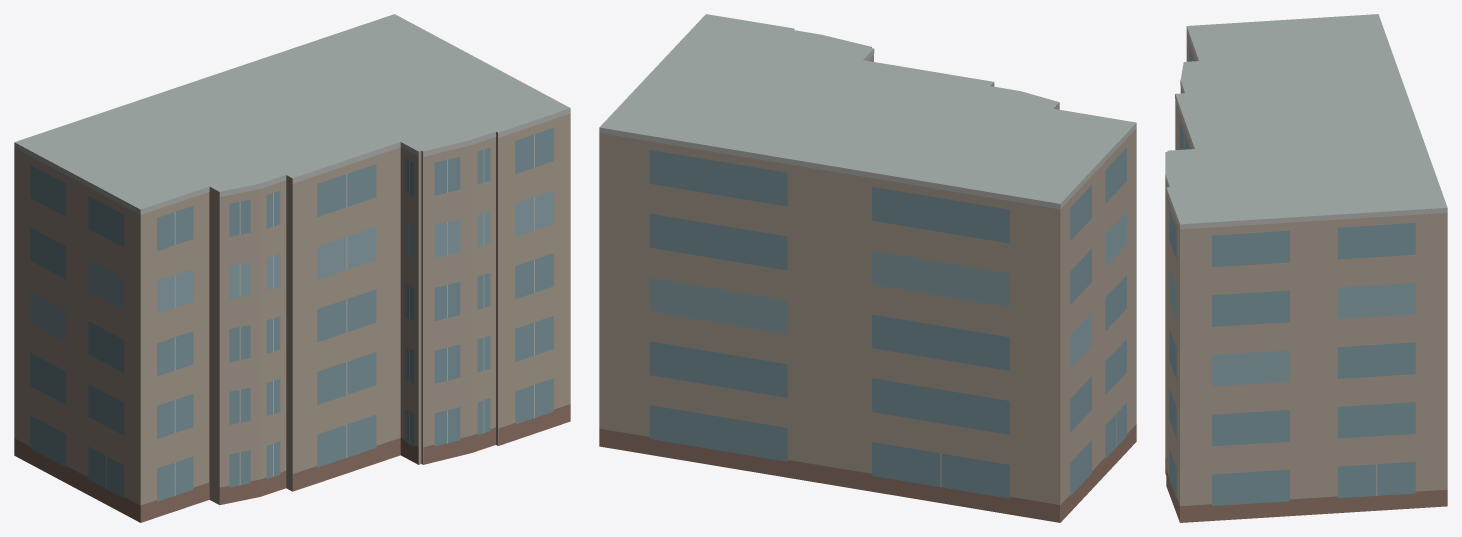
The model's file is survey-upis-33004224.glb.
The picture shows the model from 3 angles, left to right: view 1: azimuth 30°, elevation 25°; view 2: azimuth 150°, elevation 25°; view 3: azimuth 270°, elevation 25°; orthographic projection. The views are drawn at different scales.
Visible parts, largest first — view 1: survey-upis-33004224.tmp; view 2: survey-upis-33004224.tmp; view 3: survey-upis-33004224.tmp.
Part boxes in pixels (left/top/right/bottom): survey-upis-33004224.tmp: left=14, top=14, right=570, bottom=522; survey-upis-33004224.tmp: left=599, top=14, right=1136, bottom=522; survey-upis-33004224.tmp: left=1165, top=14, right=1447, bottom=522.
Bounding box in the file's own units: 21.62 × 14.3 × 12.27.
